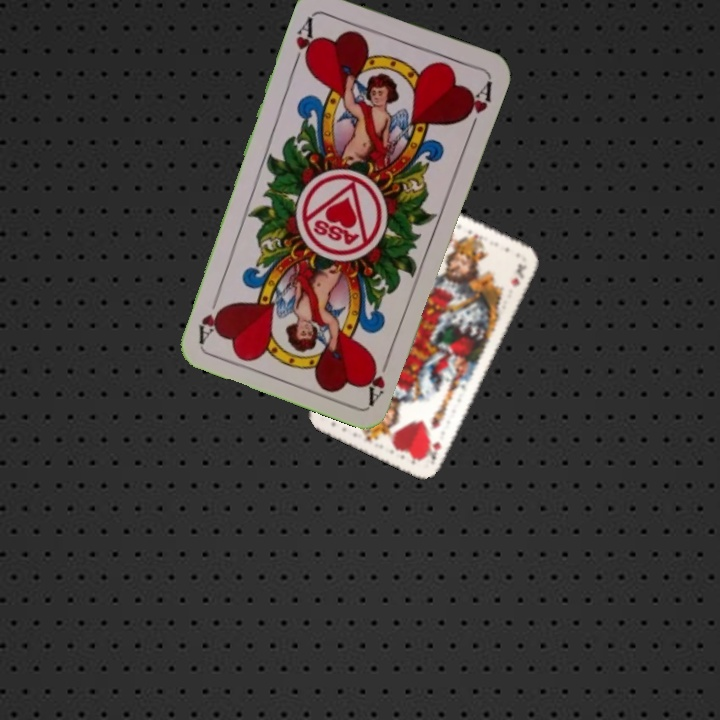HA: (360, 348, 394, 406), (290, 11, 320, 70)
HK: (426, 438, 443, 466)
